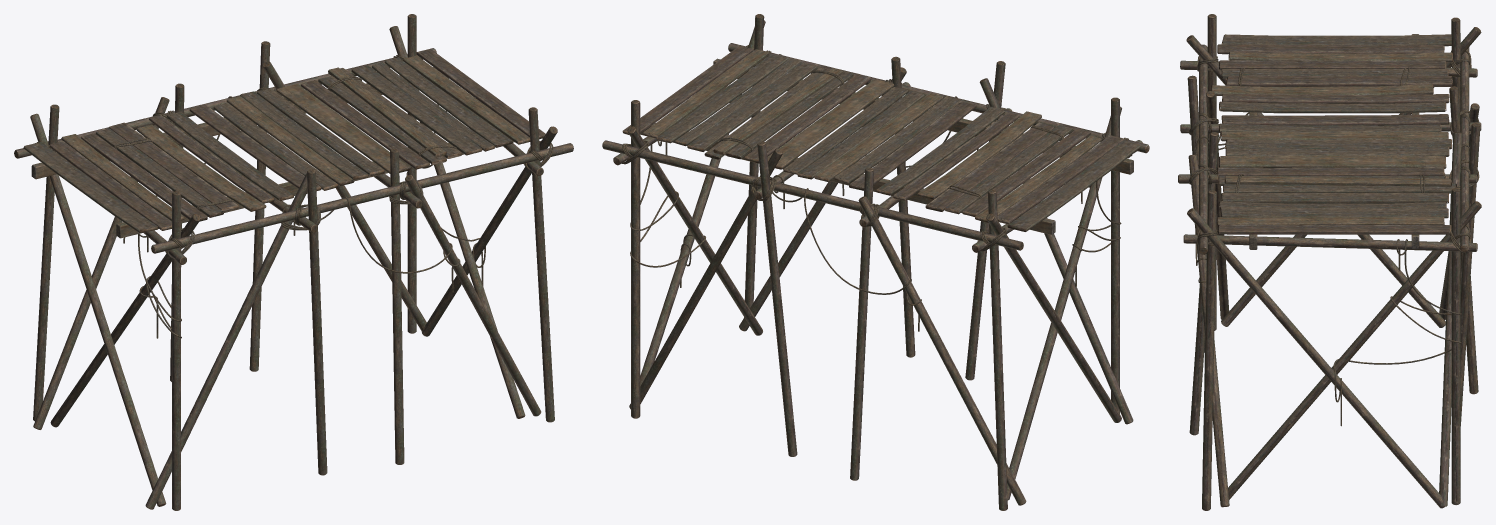
Rendered from SM_Construction_v1_6x9_01.fbx.
3 renders of one model, left to right at view 1: azimuth 30°, elevation 25°; view 2: azimuth 150°, elevation 25°; view 3: azimuth 270°, elevation 25°, orthographic.
Visible parts, largest first — view 1: SM_Construction_v1_6x9_01_LOD0; view 2: SM_Construction_v1_6x9_01_LOD0; view 3: SM_Construction_v1_6x9_01_LOD0.
Boxes of the visible parts, x1,y1,x2,y2 form: SM_Construction_v1_6x9_01_LOD0: (14, 14, 573, 510); SM_Construction_v1_6x9_01_LOD0: (602, 14, 1149, 510); SM_Construction_v1_6x9_01_LOD0: (1178, 14, 1481, 510).
Bounding box in the file's own units: 933 × 572 × 654.
Materials: 1 (1 with a texture image).
